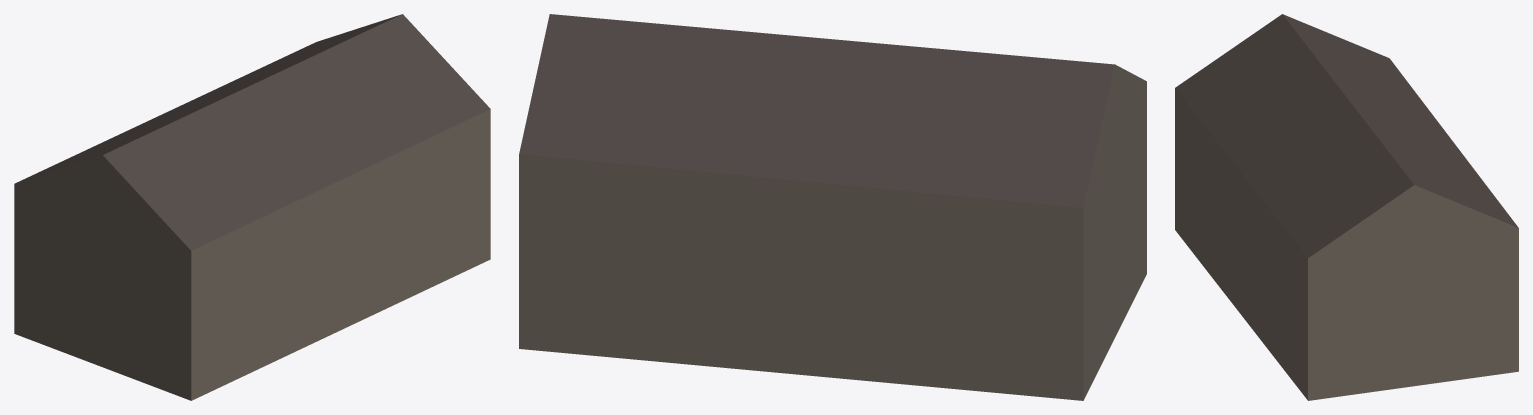
3 views of the same model, side by side, from view 1: azimuth 30°, elevation 25°; view 2: azimuth 150°, elevation 25°; view 3: azimuth 270°, elevation 25° (orthographic). The views are drawn at different scales.
Visible parts, largest first — view 1: HP-w1198645058; view 2: HP-w1198645058; view 3: HP-w1198645058.
Part boxes in pixels (left/top/right/bottom): HP-w1198645058: left=14, top=14, right=490, bottom=400; HP-w1198645058: left=519, top=14, right=1146, bottom=400; HP-w1198645058: left=1175, top=14, right=1518, bottom=400.
Size of the model in its own units: 18.15 by 8.49 by 13.15.
